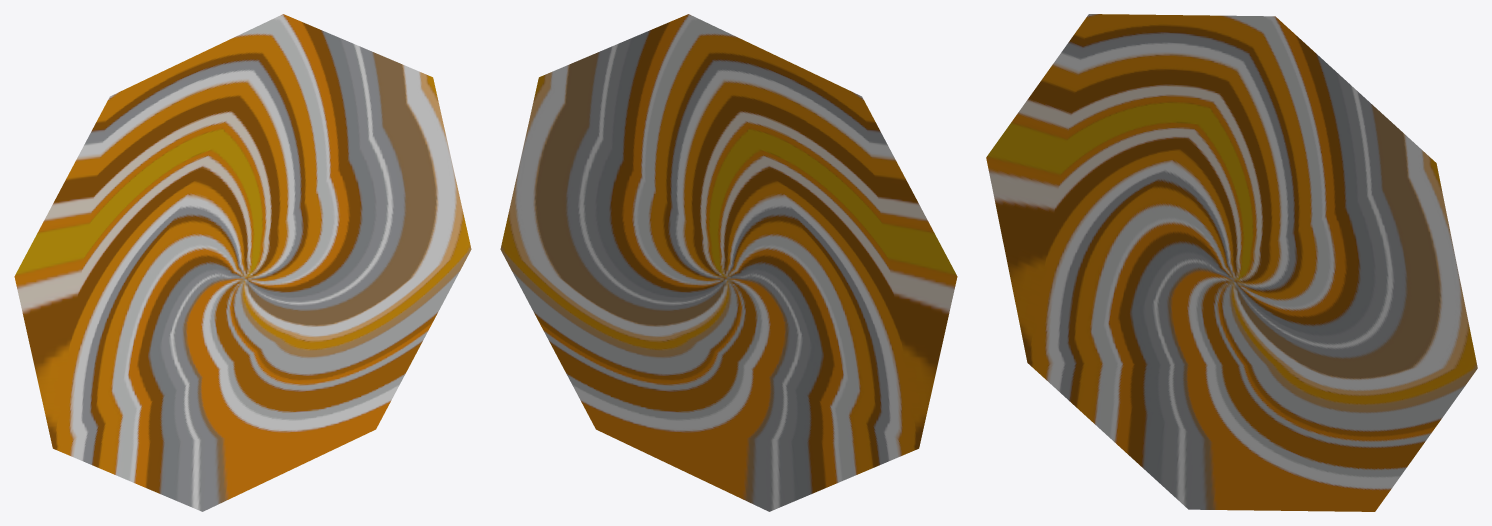
The model's file is Dryer object animation.fbx.
3 renders of one model, left to right at view 1: azimuth 30°, elevation 25°; view 2: azimuth 150°, elevation 25°; view 3: azimuth 330°, elevation 25°, orthographic. The views are drawn at different scales.
Parts seen in each view (by area): view 1: Cube.001; view 2: Cube.001; view 3: Cube.001.
Part boxes in pixels (x1=…): Cube.001: x1=14, y1=14, x2=471, y2=511; Cube.001: x1=500, y1=14, x2=957, y2=511; Cube.001: x1=986, y1=14, x2=1477, y2=511.
Size of the model in its own units: 1.88e-05 by 32.56 by 32.56.
Materials: 1 (1 with a texture image).
